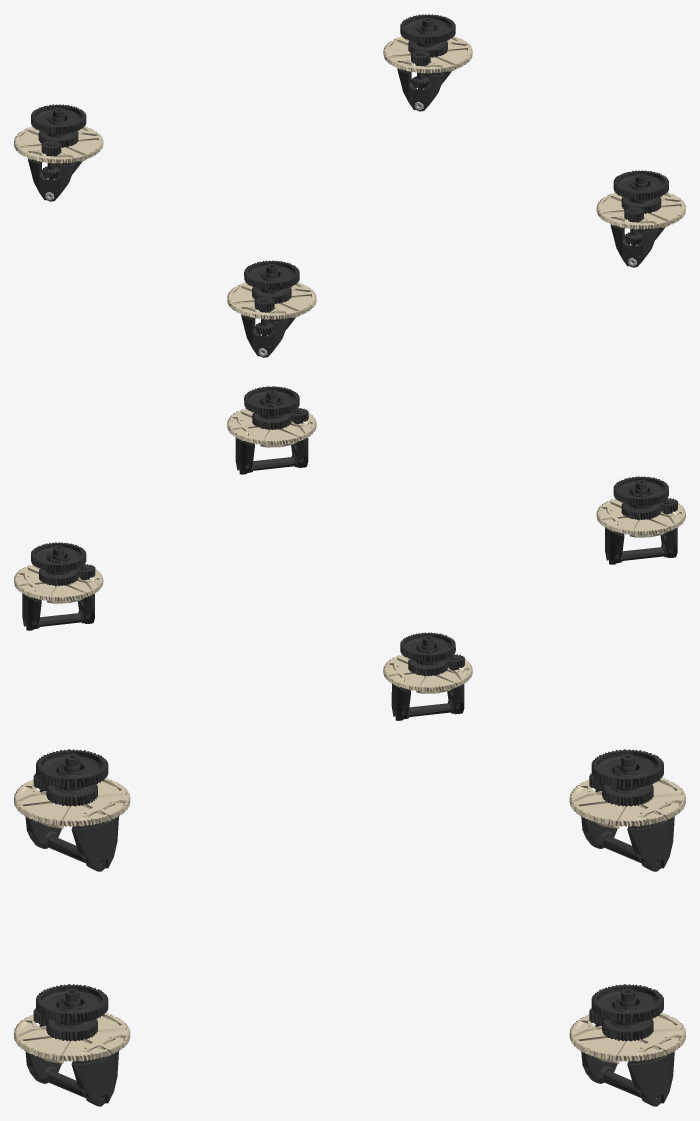
The model's file is 341-steer.glb.
3 renders of one model, top to bottom at view 1: azimuth 30°, elevation 25°; view 2: azimuth 150°, elevation 25°; view 3: azimuth 270°, elevation 25°, orthographic. The views are drawn at different scales.
Visible parts, largest first — view 1: WCP Swerve X2 Hardware Kit (WCP-1700-001), WCP Swerve X2 (88t Rotation Gear) (WCP-1712); view 2: WCP Swerve X2 Hardware Kit (WCP-1700-001), WCP Swerve X2 (88t Rotation Gear) (WCP-1712); view 3: WCP Swerve X2 Hardware Kit (WCP-1700-001), WCP Swerve X2 (88t Rotation Gear) (WCP-1712).
Part boxes in pixels (x1,y1,x2,y2): WCP Swerve X2 Hardware Kit (WCP-1700-001): (28,14,668,357); WCP Swerve X2 (88t Rotation Gear) (WCP-1712): (14,36,685,319); WCP Swerve X2 Hardware Kit (WCP-1700-001): (22,386,677,720); WCP Swerve X2 (88t Rotation Gear) (WCP-1712): (14,408,685,693); WCP Swerve X2 Hardware Kit (WCP-1700-001): (25,749,674,1106); WCP Swerve X2 (88t Rotation Gear) (WCP-1712): (14,778,685,1063).
Bounding box in the file's own units: 0.6604 × 0.1111 × 0.6604.
